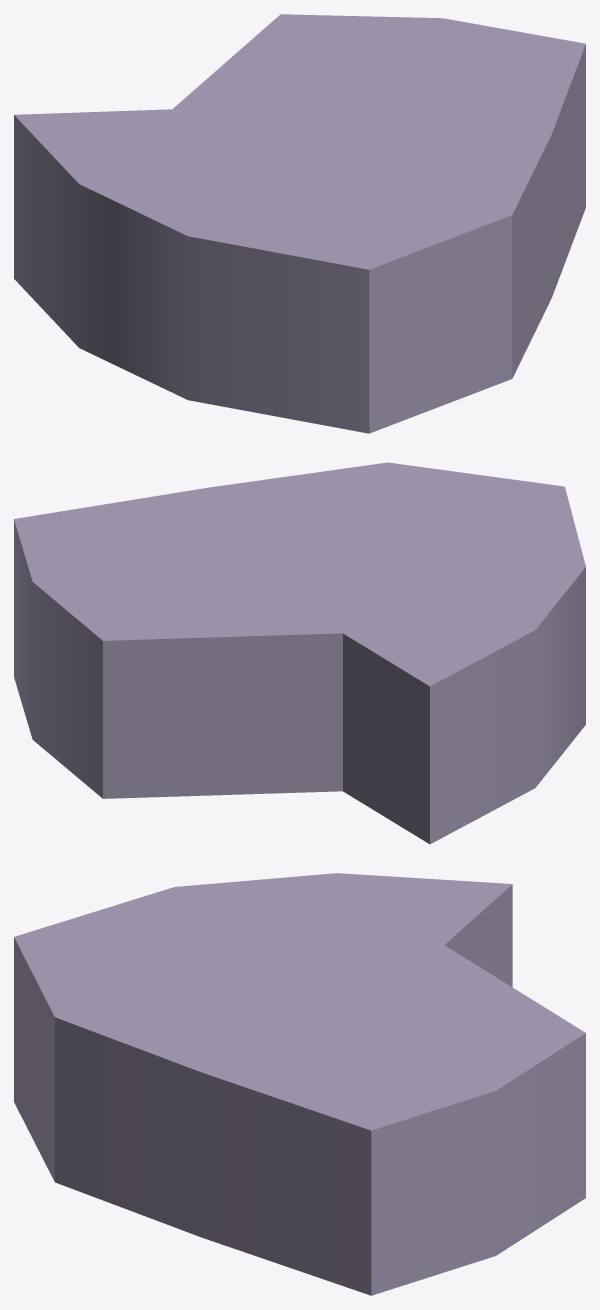
Rendered from tainan.glb.
3 views of the same model, one above another, from view 1: azimuth 30°, elevation 25°; view 2: azimuth 150°, elevation 25°; view 3: azimuth 270°, elevation 25° (orthographic). The views are drawn at different scales.
Visible parts, largest first — view 1: map_geo Tainan_geo; view 2: map_geo Tainan_geo; view 3: map_geo Tainan_geo.
Part boxes in pixels (bbox=[...]): map_geo Tainan_geo: bbox=[14, 14, 585, 433]; map_geo Tainan_geo: bbox=[14, 462, 585, 844]; map_geo Tainan_geo: bbox=[14, 873, 585, 1295].
Bounding box in the file's own units: 0.93 × 0.2781 × 0.8729.
Materials: 1 (1 with a texture image).
